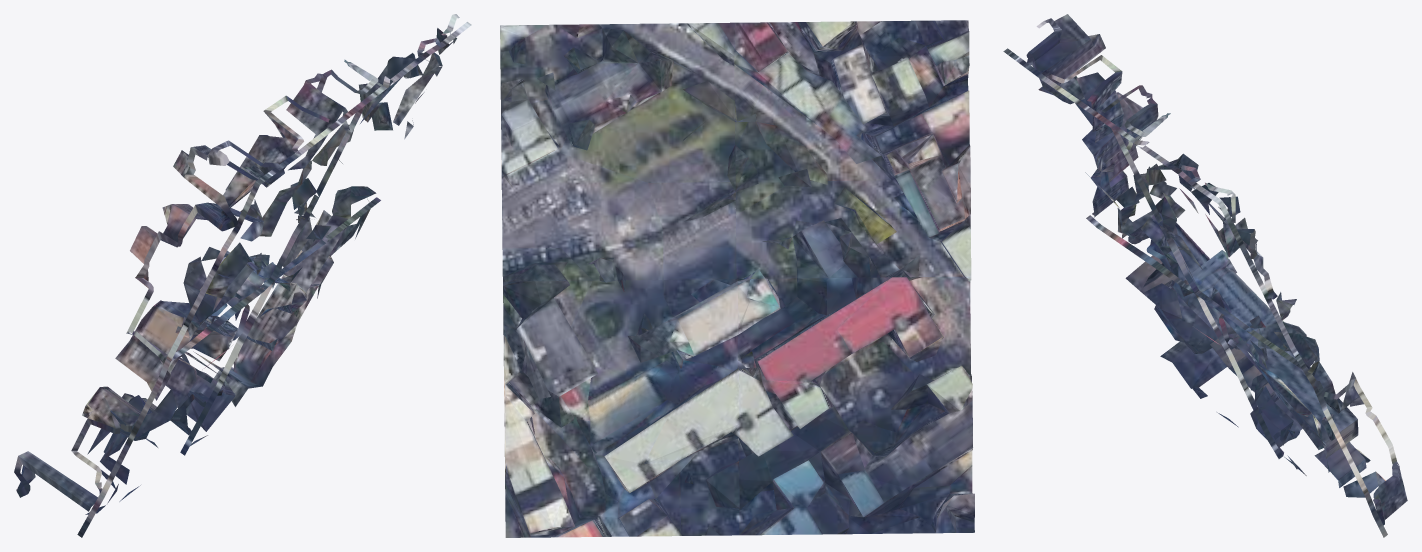
3 views of the same model, side by side, from view 1: azimuth 30°, elevation 25°; view 2: azimuth 150°, elevation 25°; view 3: azimuth 270°, elevation 25° (orthographic). The views are drawn at different scales.
Size of the model in its own units: 165 by 147 by 134.
Materials: 1 (1 with a texture image).
